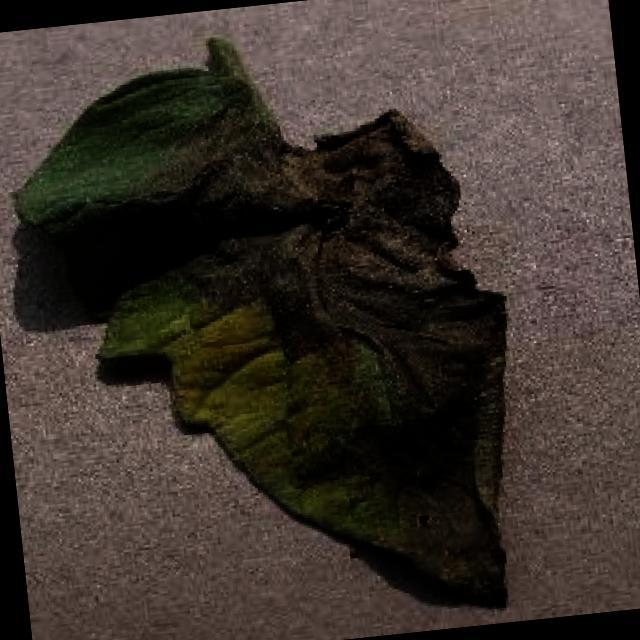Tomato late blight leaf: (0, 30, 542, 640)
